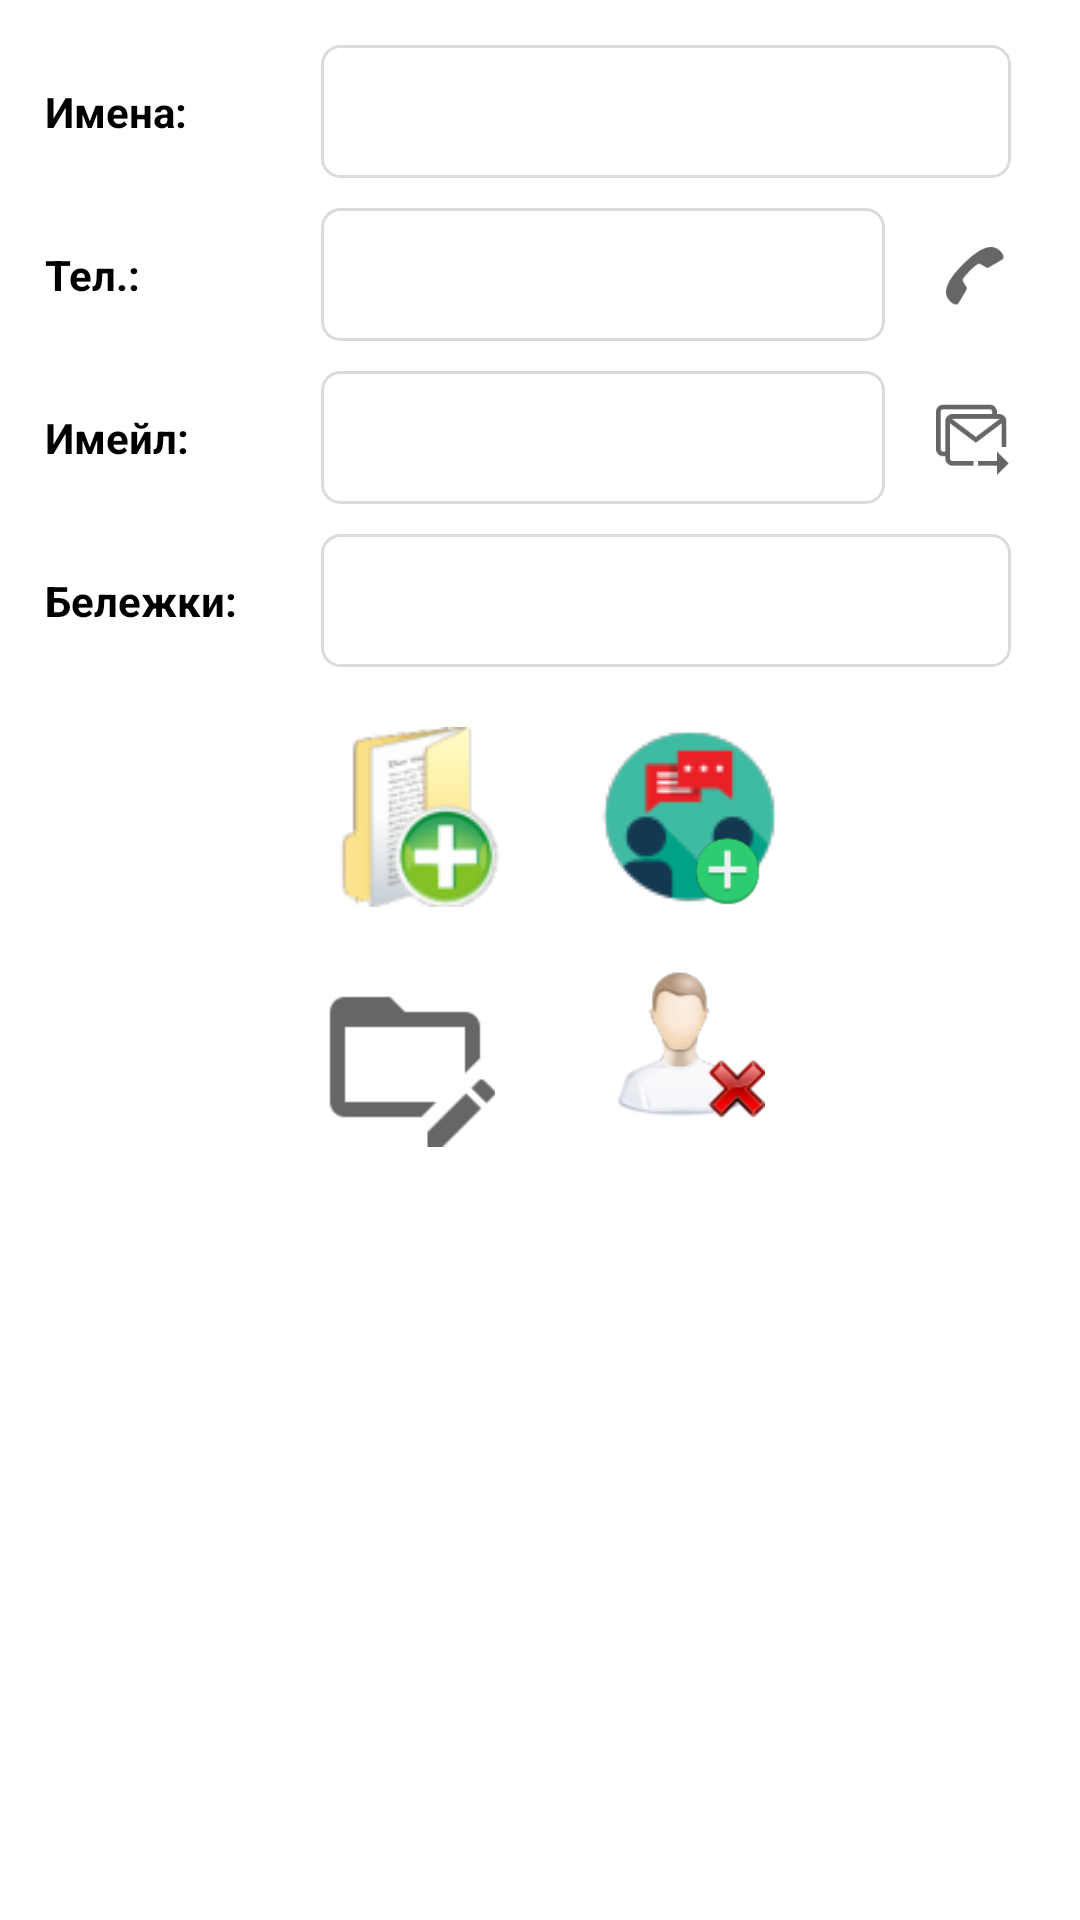

Icons on this 1080px×1920px Android screen, each with the point to tap as point (x, y):
addcase: point (419, 817)
call: point (975, 276)
edit: point (412, 1071)
email: point (972, 439)
removeclient: point (691, 1044)
